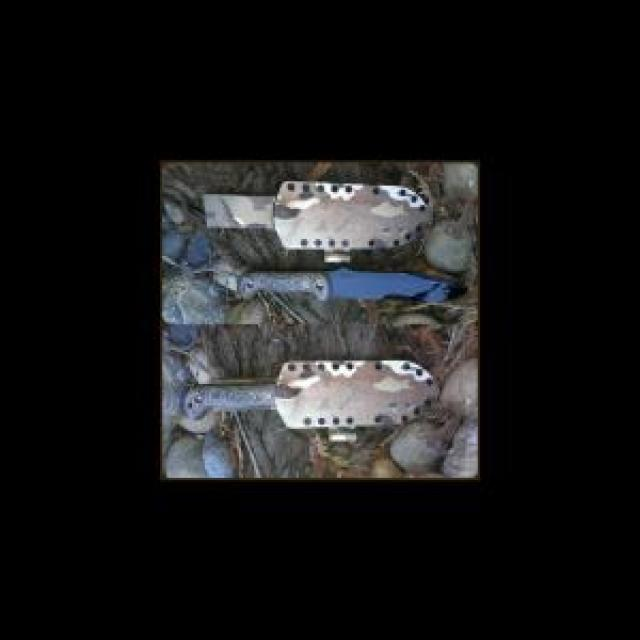knife: (192, 358, 445, 443), (203, 183, 435, 250), (220, 269, 468, 309)
